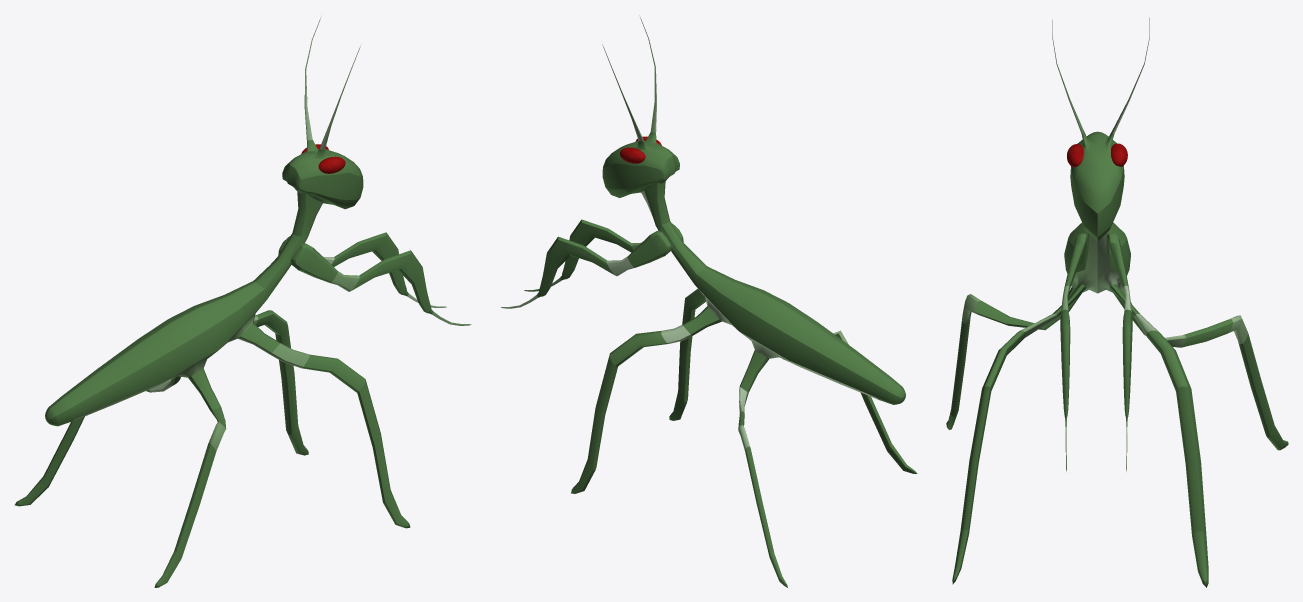
The model's file is mantis.fbx.
The picture shows the model from 3 angles, left to right: view 1: azimuth 30°, elevation 25°; view 2: azimuth 150°, elevation 25°; view 3: azimuth 270°, elevation 25°; orthographic projection. The views are drawn at different scales.
Parts seen in each view (by area): view 1: Mantis001, FrontLegs001, BackLegs001, RightArm001, LeftArm001; view 2: Mantis001, FrontLegs001, LeftArm001, BackLegs001, RightArm001; view 3: FrontLegs001, Mantis001, BackLegs001, RightArm001, LeftArm001, Eyes.
Part boxes in pixels (x1=…): Mantis001: x1=45, y1=16, x2=363, y2=426; FrontLegs001: x1=238, y1=310, x2=410, y2=528; BackLegs001: x1=14, y1=368, x2=226, y2=587; RightArm001: x1=290, y1=243, x2=471, y2=325; LeftArm001: x1=278, y1=232, x2=446, y2=308; Mantis001: x1=602, y1=15, x2=905, y2=404; FrontLegs001: x1=571, y1=288, x2=721, y2=493; LeftArm001: x1=501, y1=230, x2=671, y2=308; BackLegs001: x1=738, y1=330, x2=917, y2=587; RightArm001: x1=524, y1=219, x2=683, y2=291; FrontLegs001: x1=952, y1=284, x2=1208, y2=587; Mantis001: x1=1052, y1=18, x2=1149, y2=293; BackLegs001: x1=946, y1=287, x2=1288, y2=450; RightArm001: x1=1060, y1=233, x2=1087, y2=471; LeftArm001: x1=1107, y1=233, x2=1132, y2=471; Eyes: x1=1067, y1=143, x2=1127, y2=167.
Bounding box in the file's own units: 19.93 × 21.78 × 11.58.
Materials: 3 (3 with a texture image).
